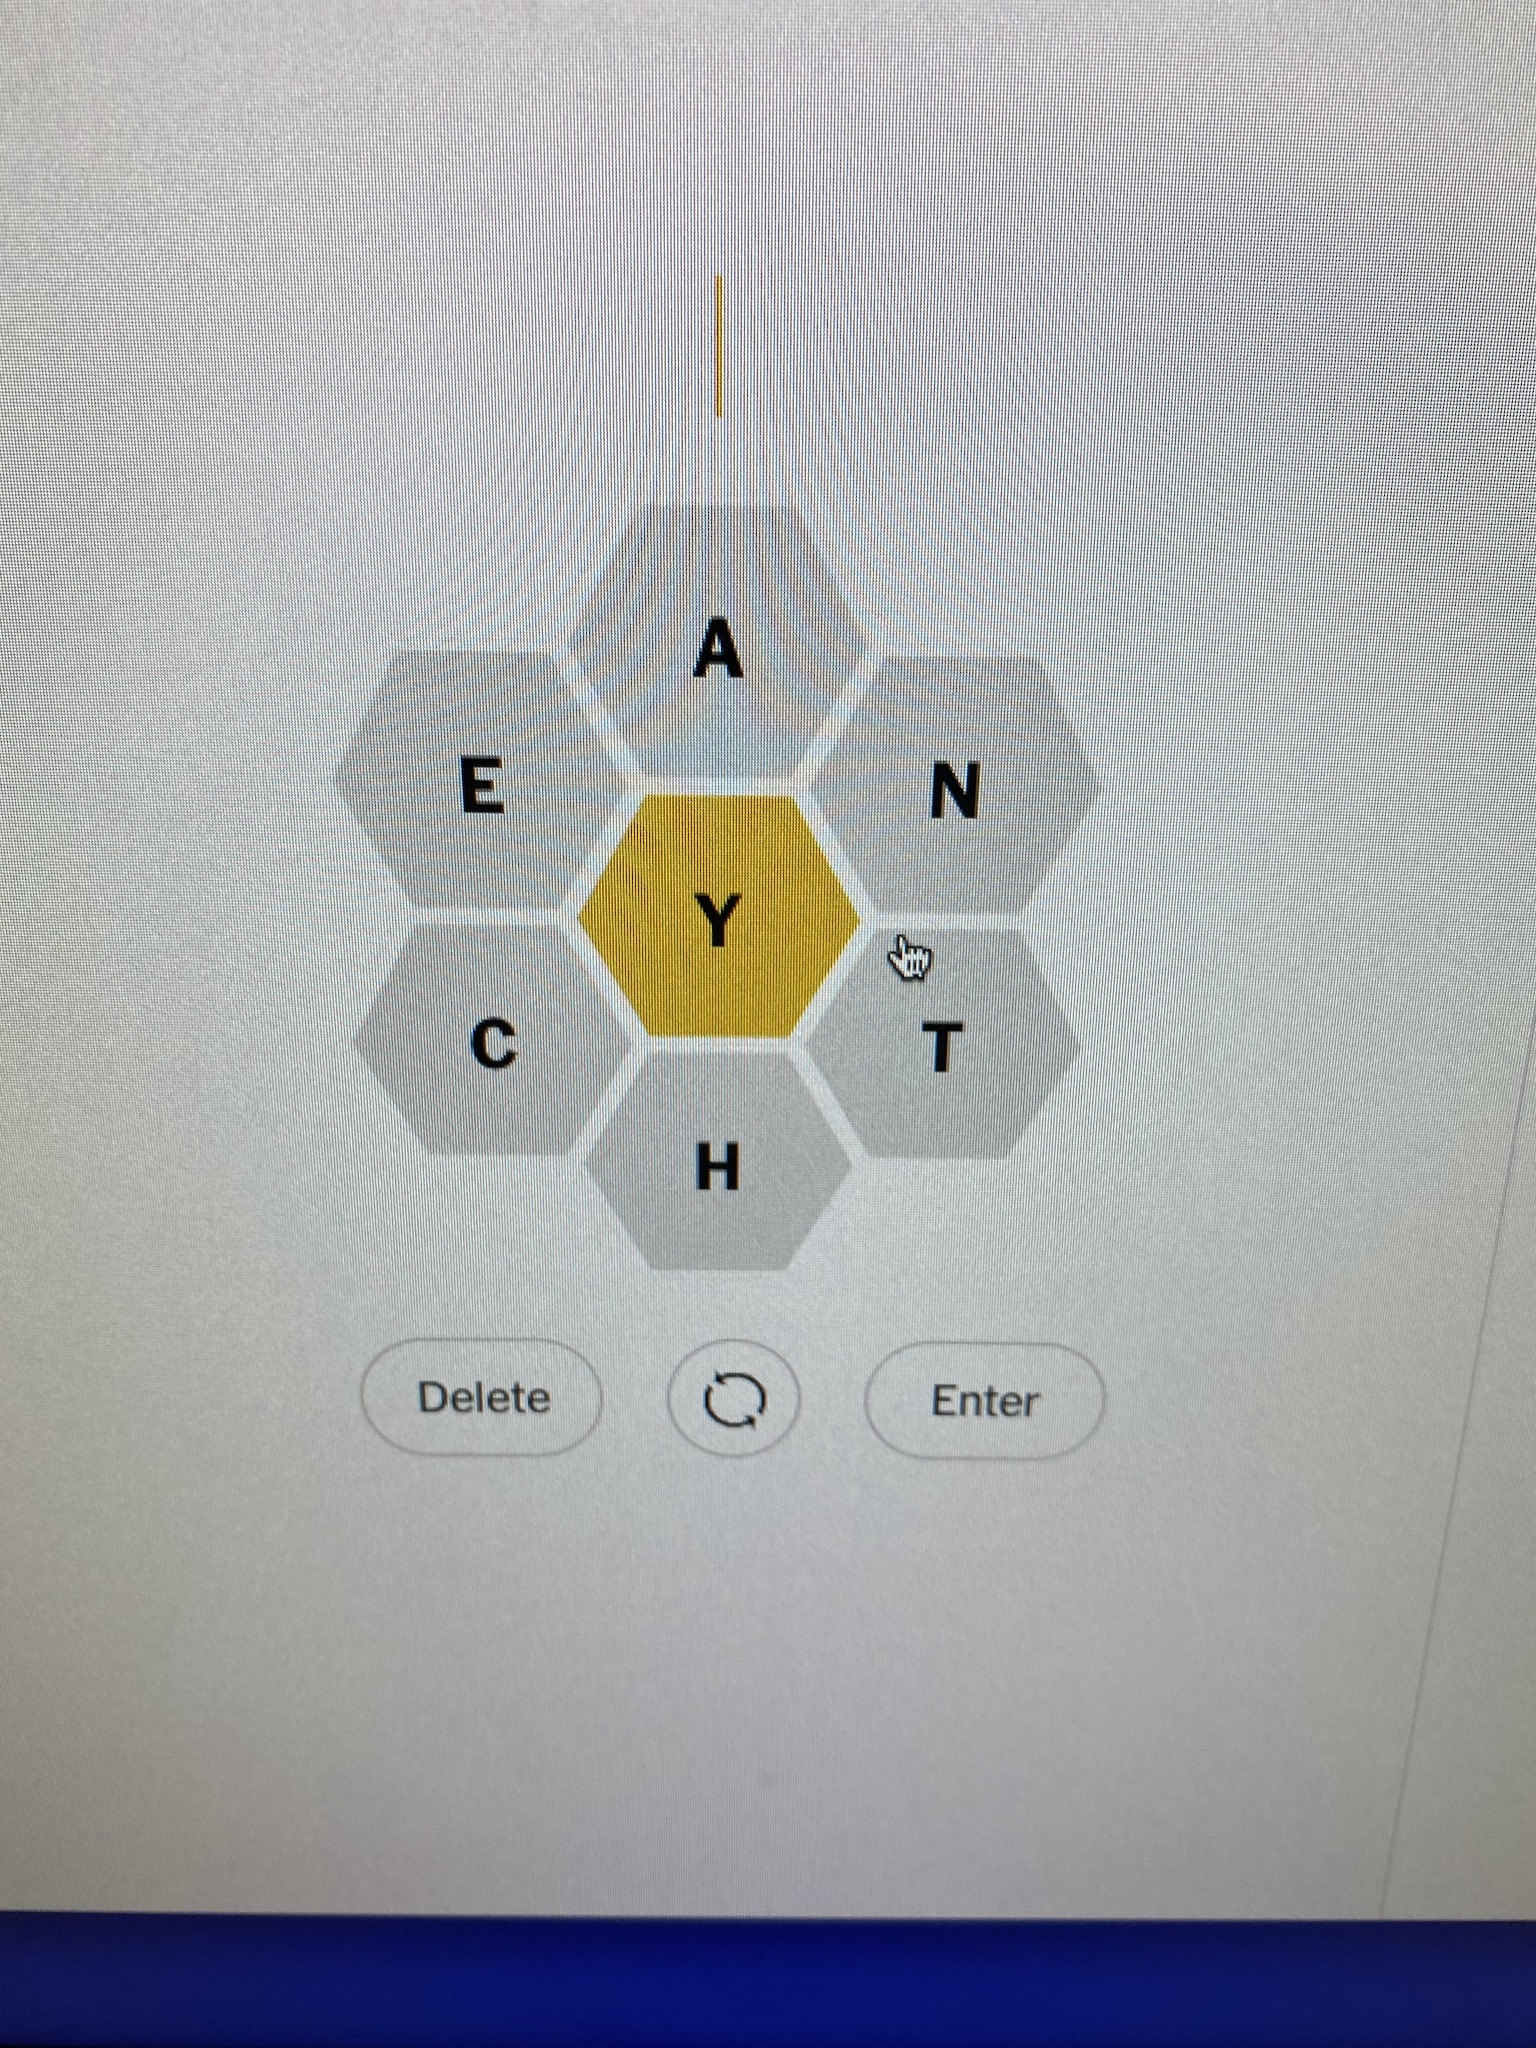Board: (326, 500, 1121, 1297)
